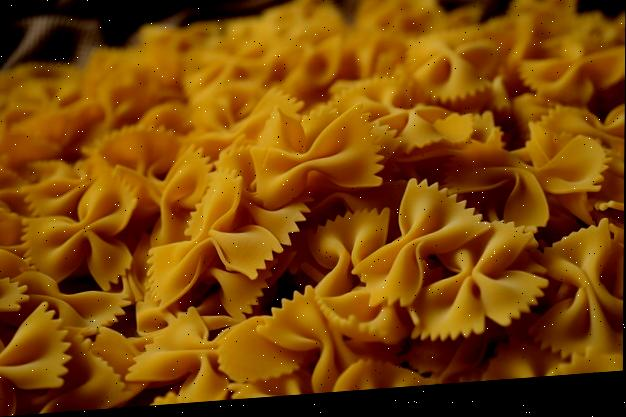pasta: (0, 0, 624, 415)
